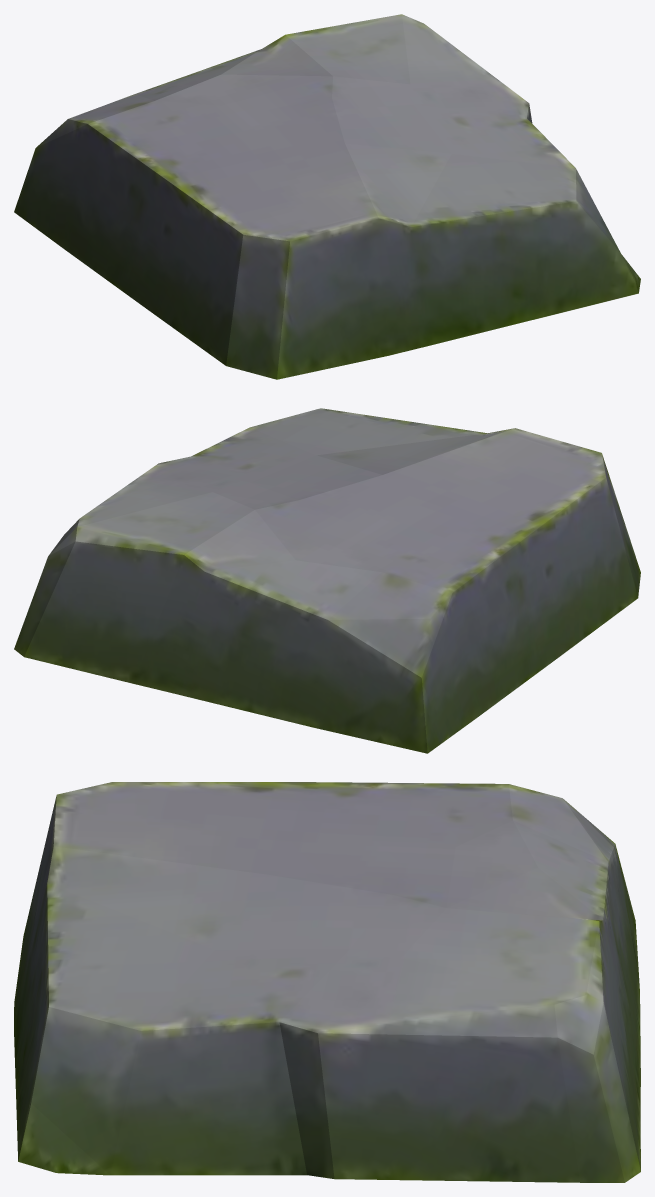
File: pebble-square-6jux57slhe-transformed.glb
3 renders of one model, top to bottom at view 1: azimuth 30°, elevation 25°; view 2: azimuth 150°, elevation 25°; view 3: azimuth 270°, elevation 25°, orthographic. The views are drawn at different scales.
Parts seen in each view (by area): view 1: Pebble_Square_1; view 2: Pebble_Square_1; view 3: Pebble_Square_1.
Part boxes in pixels (<box>): Pebble_Square_1: <box>14,14,640,379</box>; Pebble_Square_1: <box>14,408,640,753</box>; Pebble_Square_1: <box>14,782,640,1182</box>.
Bounding box in the file's own units: 0.4346 × 0.1299 × 0.4396.
1 material, 1 textured.
